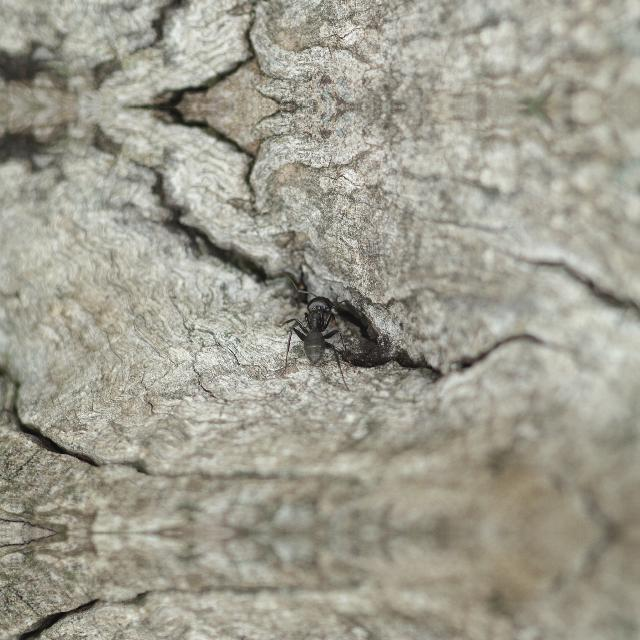Camponotus: (283, 277, 343, 377)
